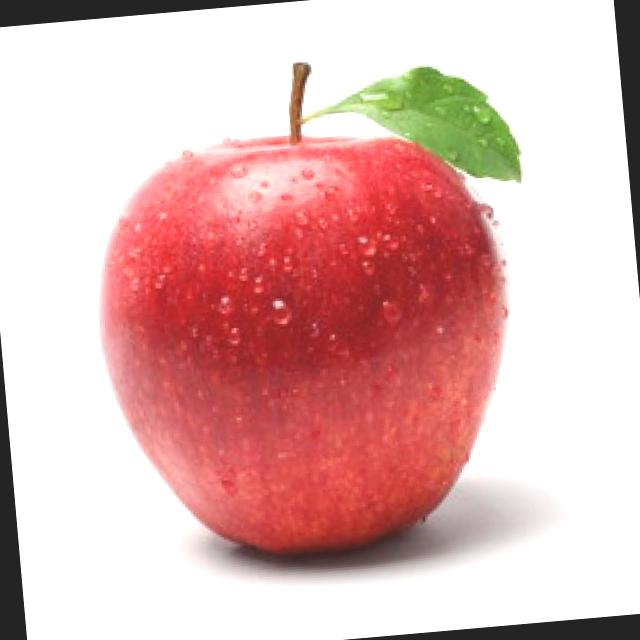apple: (76, 113, 542, 584)
